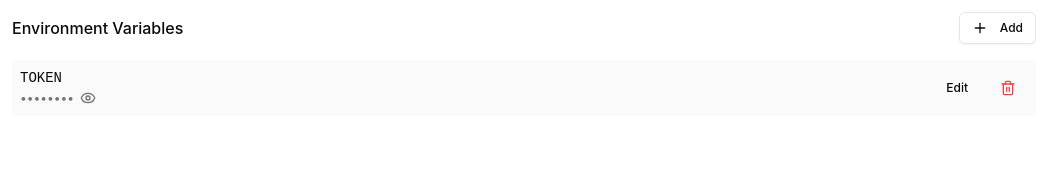
Test: EnvVarSection › reveals and re-hides a secret through the labelled toggle
Step 1. Click the button named "Show value" → click(88, 98), box [78, 88, 98, 108]
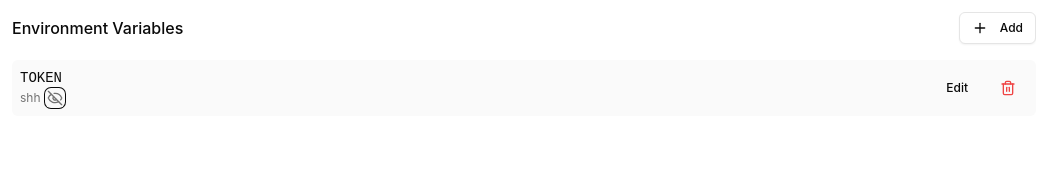
Result: the text "shh" is shown at [20, 90, 40, 106]
Step 2. Click the button named "Hide value" → click(54, 98), box [44, 88, 64, 108]
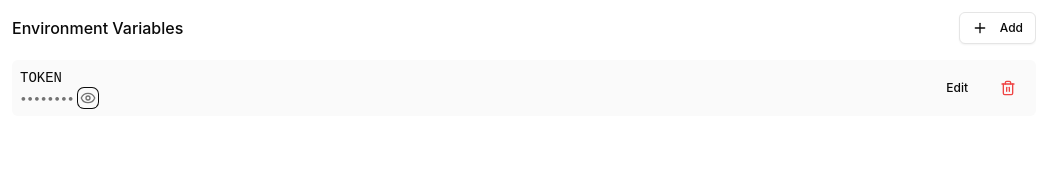
Result: the text "shh" is gone
